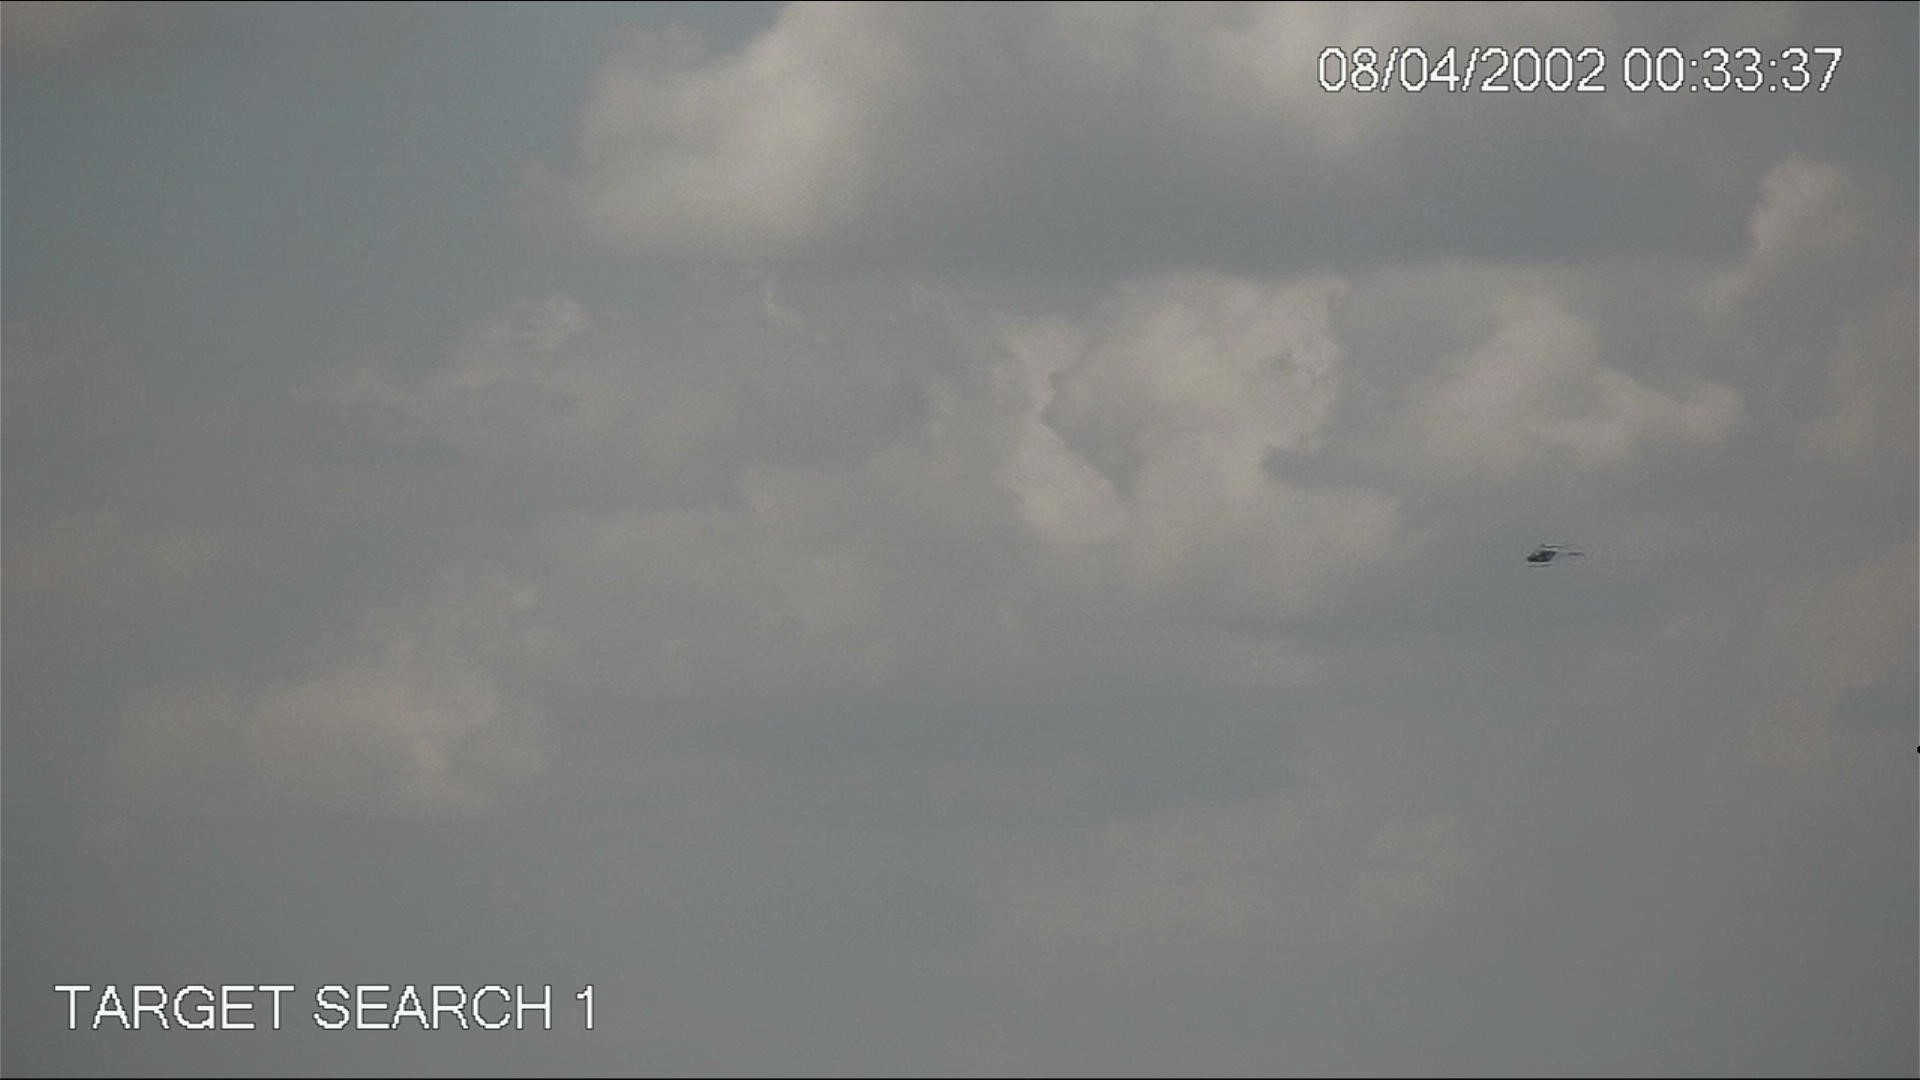SU_30: (1524, 539, 1592, 568)
